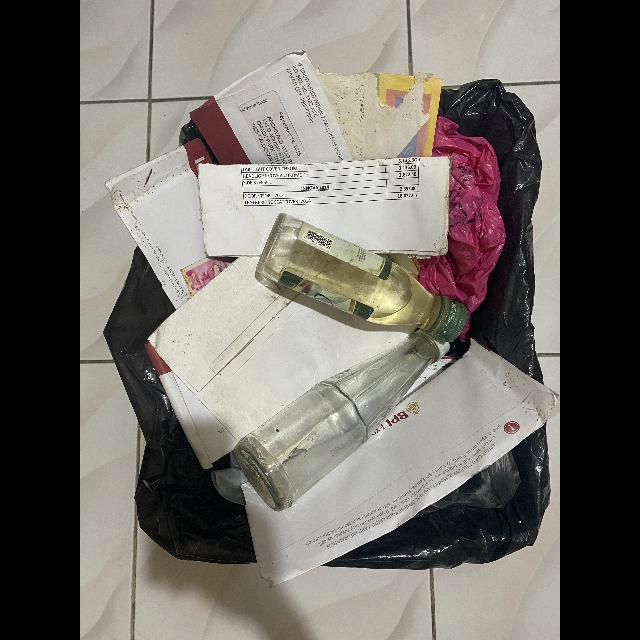glass_bottle: (228, 327, 449, 513), (257, 210, 468, 344)
paper: (242, 338, 560, 587), (146, 256, 422, 439), (198, 157, 452, 257), (104, 138, 235, 313), (186, 52, 351, 163), (145, 344, 246, 467), (317, 68, 439, 160)
plastic_bag: (414, 117, 509, 340)
